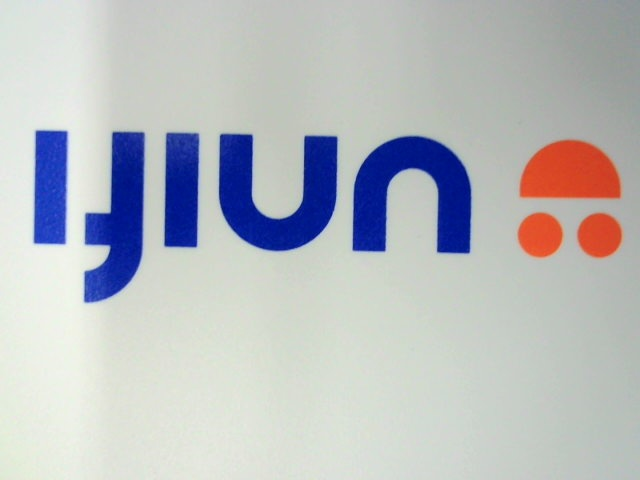BN_unifi: (17, 115, 634, 304)
